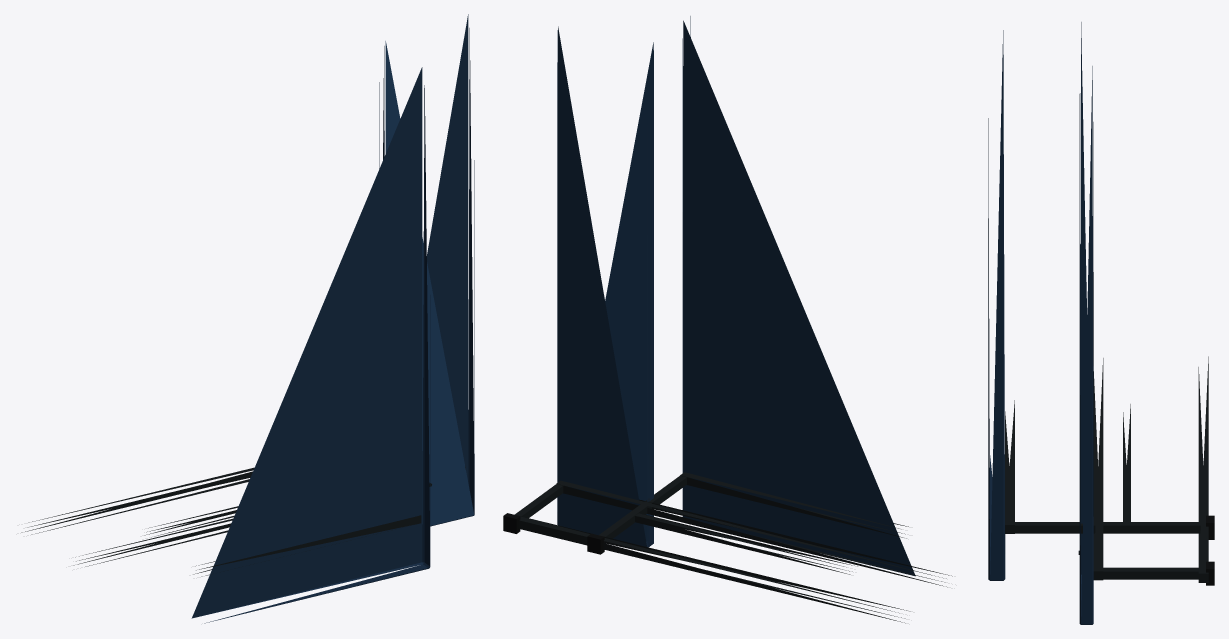
The picture shows the model from 3 angles, left to right: view 1: azimuth 30°, elevation 25°; view 2: azimuth 150°, elevation 25°; view 3: azimuth 270°, elevation 25°; orthographic projection. The views are drawn at different scales.
Size of the model in its own units: 1.7 by 2.01 by 0.73.
